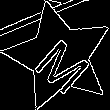M_NE: (25, 22, 94, 91)
